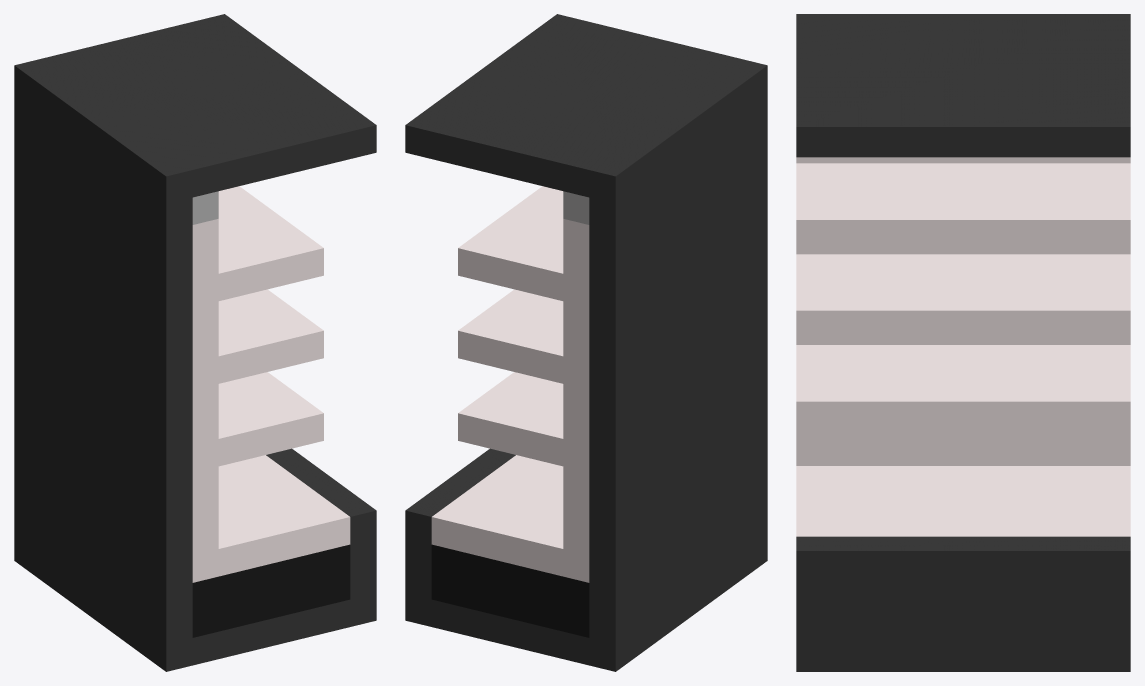
The model's file is large-cooler-middle.glb.
3 renders of one model, left to right at view 1: azimuth 30°, elevation 25°; view 2: azimuth 150°, elevation 25°; view 3: azimuth 270°, elevation 25°, orthographic. The views are drawn at different scales.
Parts seen in each view (by area): view 1: Untitled; view 2: Untitled; view 3: Untitled.
Boxes of the visible parts, x1,y1,x2,y2 form: Untitled: (14,14,376,671); Untitled: (405,14,767,671); Untitled: (796,14,1130,671).
Size of the model in its own units: 0.8 by 1.8 by 1.
1 material, 1 textured.
